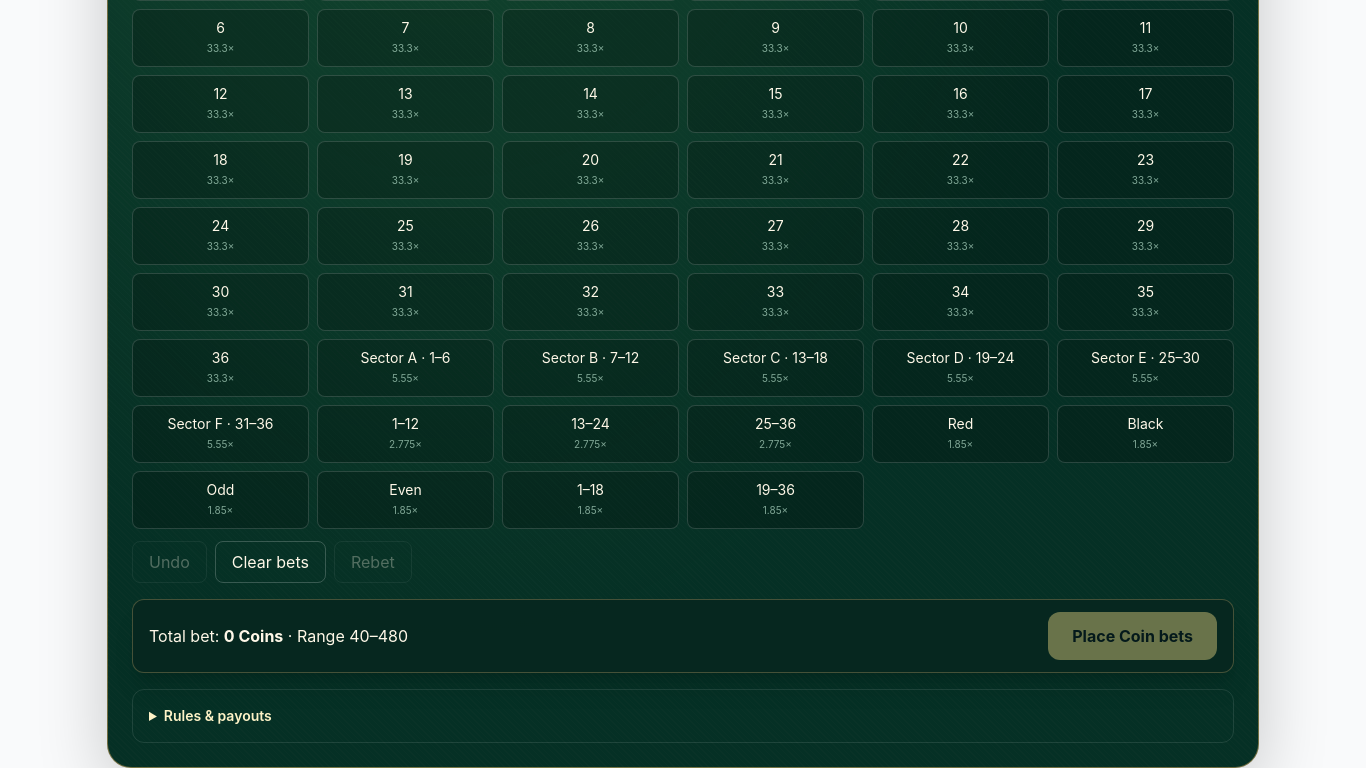
Spin Win Coin requests › sends nothing when request storage is unavailable
(page scrolled)
Check: the button "Place Coin bets" is shown, box top-left (1048, 612), bottom-right (1217, 660)
Click the button with aria-label "Bet on Red".
click(960, 434)  # box top-left (872, 405), bottom-right (1049, 463)
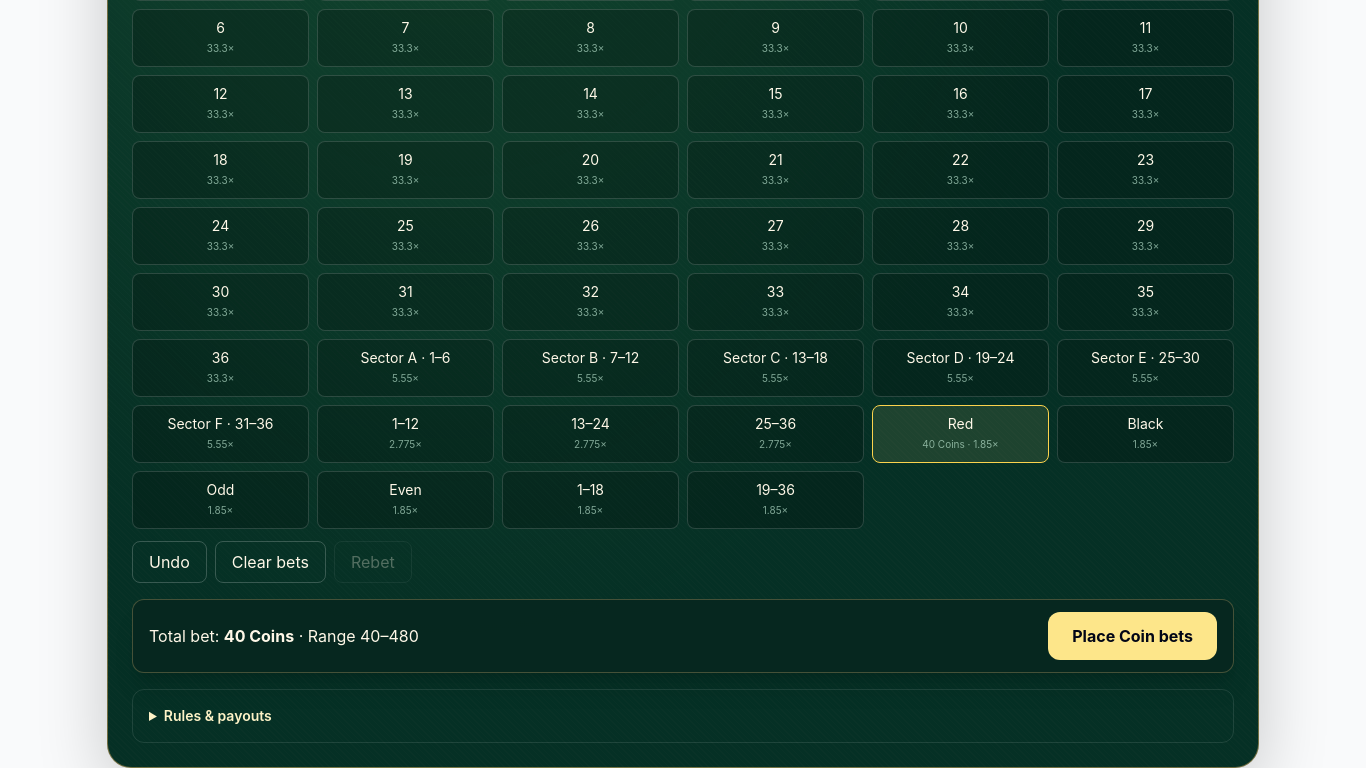
Click the button "Place Coin bets".
click(1133, 636)  # box top-left (1048, 612), bottom-right (1217, 660)
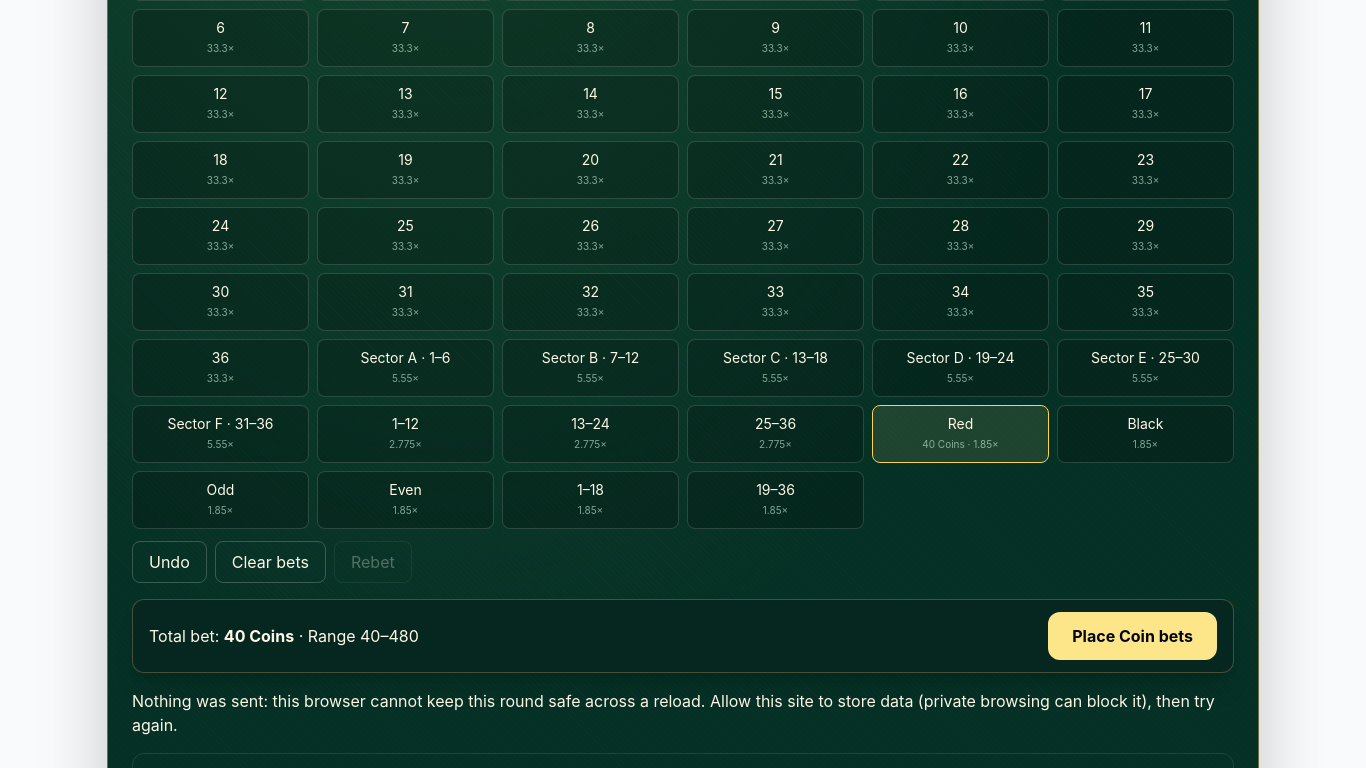
Check: the text "Nothing was sent" is shown, box top-left (132, 691), bottom-right (1215, 735)
